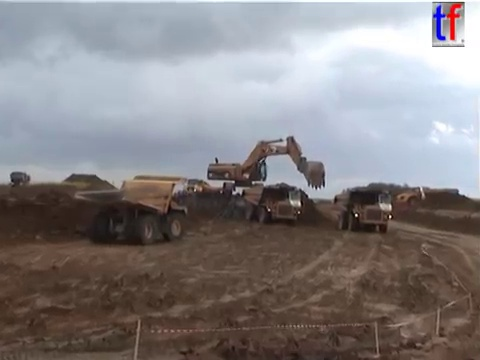excavator: (204, 133, 328, 207), (199, 185, 240, 203)
truck: (71, 174, 190, 245), (331, 189, 392, 233), (240, 183, 302, 225), (394, 184, 460, 208), (185, 178, 214, 197), (8, 169, 30, 187)
